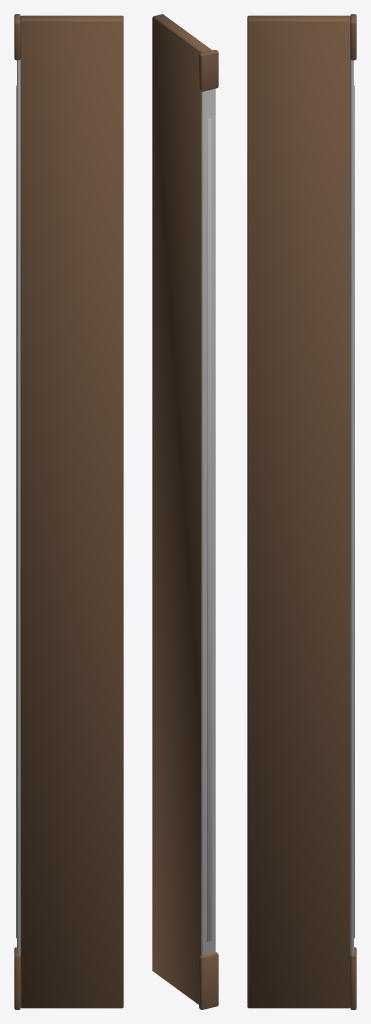
File: lib_upright.glb
3 renders of one model, left to right at view 1: azimuth 90°, elevation 25°; view 2: azimuth 210°, elevation 25°; view 3: azimuth 270°, elevation 25°, orthographic. The views are drawn at different scales.
Visible parts, largest first — view 1: lib_upright; view 2: lib_upright; view 3: lib_upright.
Boxes of the visible parts, <box> form: lib_upright: <box>14,14,123,1009</box>; lib_upright: <box>152,14,218,1009</box>; lib_upright: <box>247,14,356,1009</box>.
Size of the model in its own units: 0.07 by 3.6 by 0.36.
